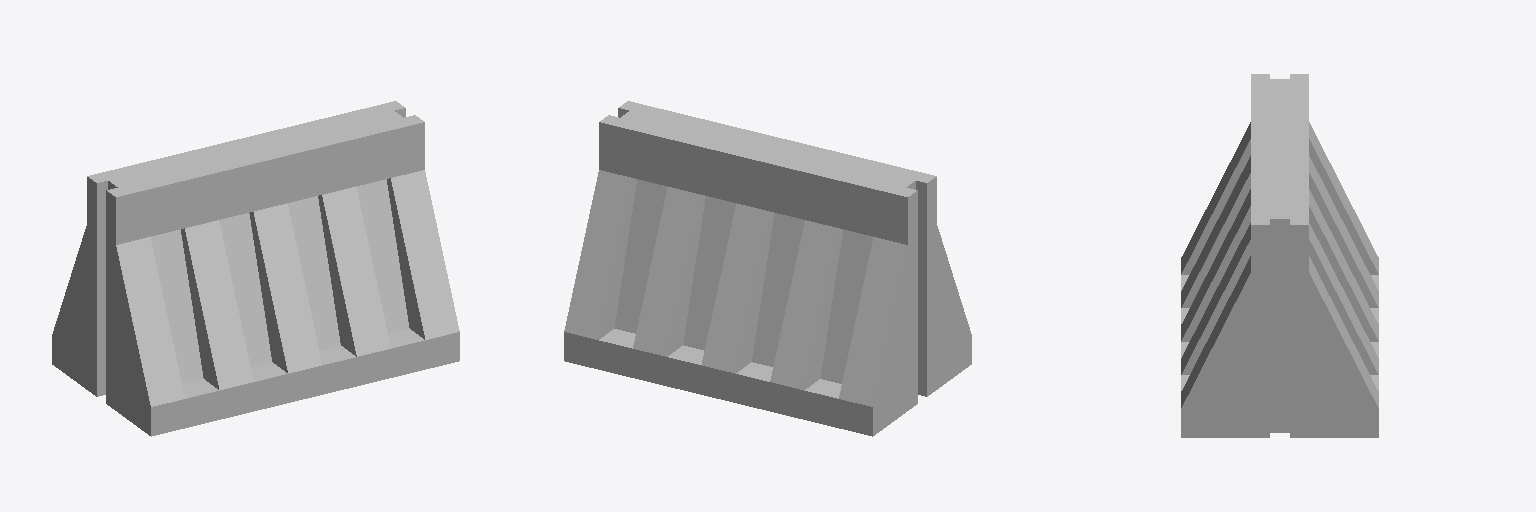
Rendered from 20_CityB_Barrier_v1.obj.
3 views of the same model, side by side, from view 1: azimuth 30°, elevation 25°; view 2: azimuth 150°, elevation 25°; view 3: azimuth 270°, elevation 25° (orthographic).
Visible parts, largest first — view 1: Barrier; view 2: Barrier; view 3: Barrier.
Part boxes in pixels (left/top/right/bottom): Barrier: left=52, top=101, right=459, bottom=436; Barrier: left=564, top=101, right=971, bottom=436; Barrier: left=1181, top=74, right=1378, bottom=437.
Size of the model in its own units: 2.54 by 1.68 by 1.41.